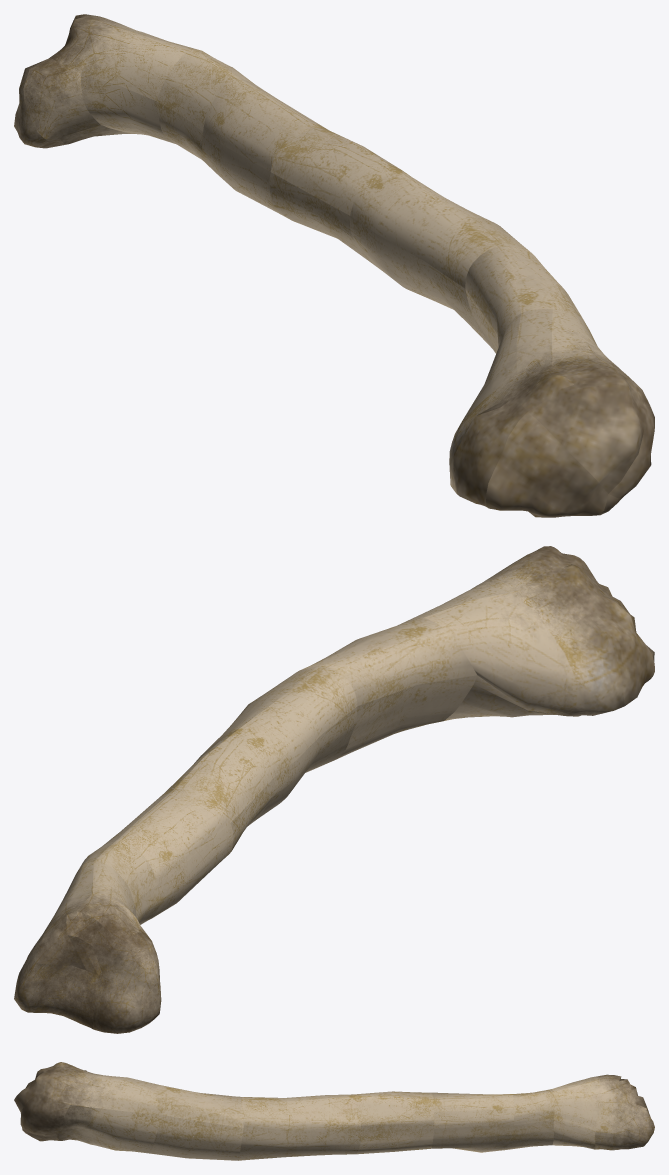
Rendered from bone1.glb.
3 renders of one model, top to bottom at view 1: azimuth 30°, elevation 25°; view 2: azimuth 150°, elevation 25°; view 3: azimuth 270°, elevation 25°, orthographic. The views are drawn at different scales.
Visible parts, largest first — view 1: polySurface4_lambert7_0; view 2: polySurface4_lambert7_0; view 3: polySurface4_lambert7_0.
Part boxes in pixels (x1,y1,x2,y2): polySurface4_lambert7_0: (14,14,654,517); polySurface4_lambert7_0: (14,546,654,1033); polySurface4_lambert7_0: (14,1062,654,1160).
Bounding box in the file's own units: 0.07 × 0.0385 × 0.2953.
Materials: 1 (1 with a texture image).
